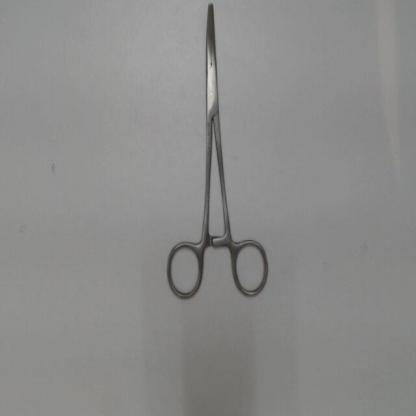Crile Artery Forceps: (161, 2, 275, 303)
